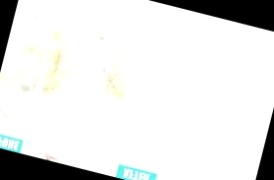earth: (39, 47, 68, 95), (0, 65, 40, 97), (99, 61, 129, 97), (22, 42, 41, 59)
